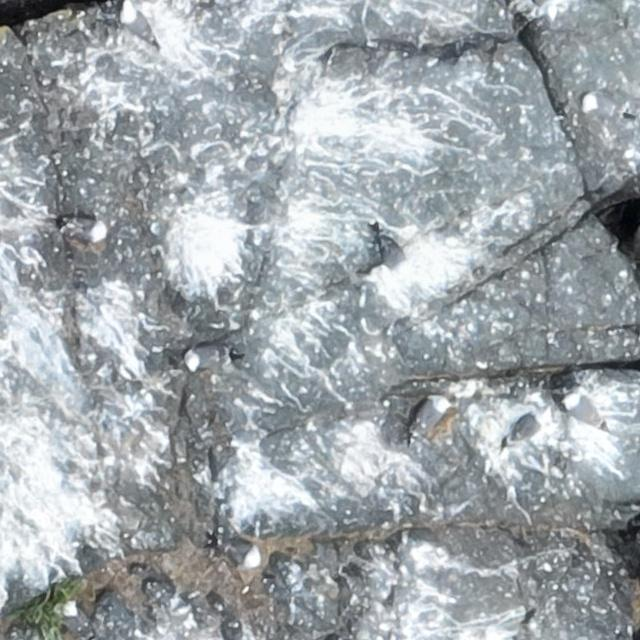umineko: (580, 90, 632, 125), (565, 392, 607, 429), (121, 2, 158, 43), (508, 411, 552, 444), (382, 232, 412, 276), (416, 399, 446, 430), (62, 219, 103, 241), (186, 346, 222, 368), (223, 542, 257, 565)
